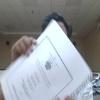notebook: (0, 18, 94, 99)
